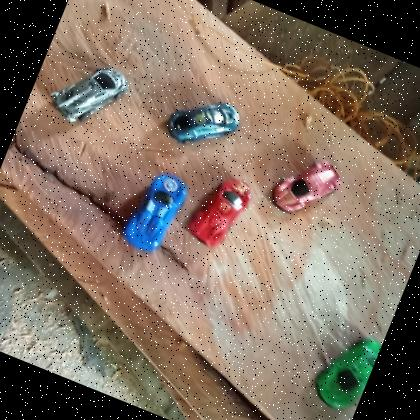Car: (44, 50, 134, 139), (117, 166, 193, 260), (265, 144, 348, 227), (182, 167, 258, 257), (161, 85, 245, 161)
